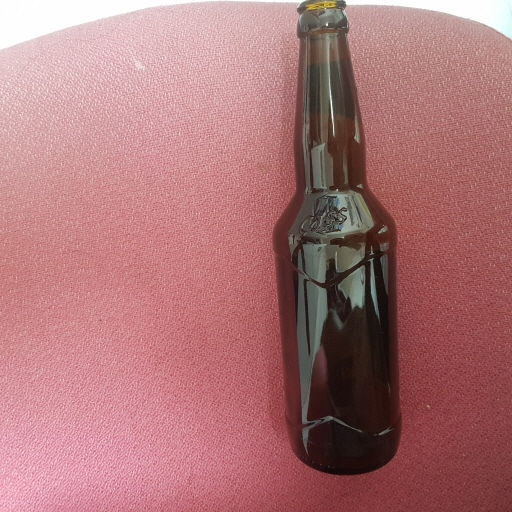Glass_1: (269, 1, 407, 478)
